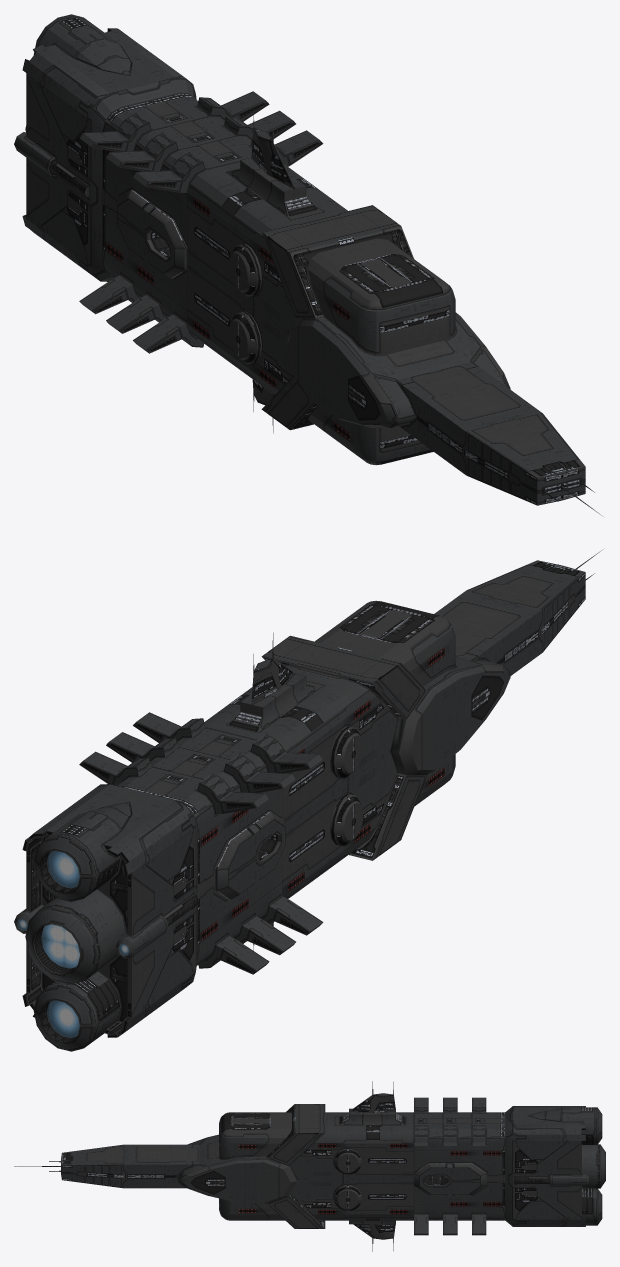
The model's file is hawking_fix.obj.
The picture shows the model from 3 angles, top to bottom: view 1: azimuth 30°, elevation 25°; view 2: azimuth 150°, elevation 25°; view 3: azimuth 270°, elevation 25°; orthographic projection. The views are drawn at different scales.
Parts seen in each view (by area): view 1: Mesh_hawking; view 2: Mesh_hawking; view 3: Mesh_hawking.
Part boxes in pixels (x1,y1,x2,y2): Mesh_hawking: (14, 14, 601, 515); Mesh_hawking: (14, 550, 601, 1051); Mesh_hawking: (14, 1081, 605, 1251).
Bounding box in the file's own units: 29.67 × 51.29 × 159.
